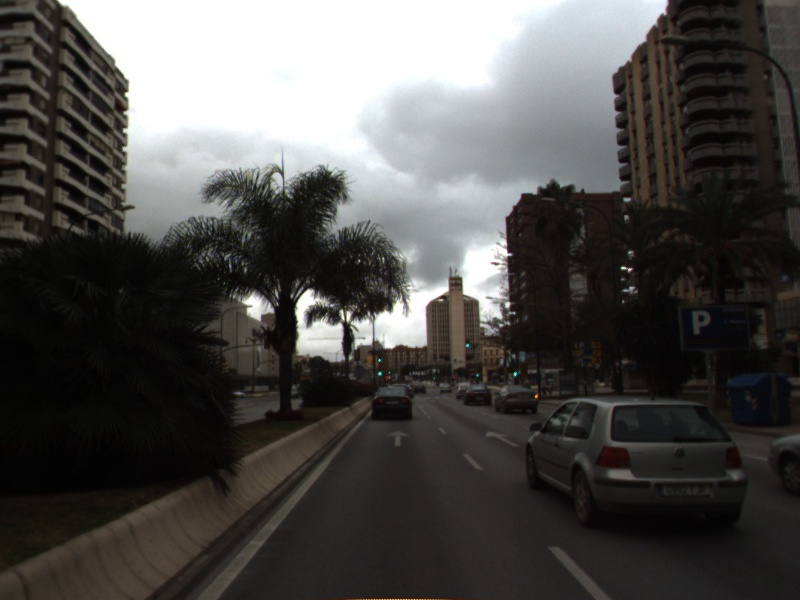STRAIGHT: (483, 428, 522, 449), (384, 428, 413, 448)
